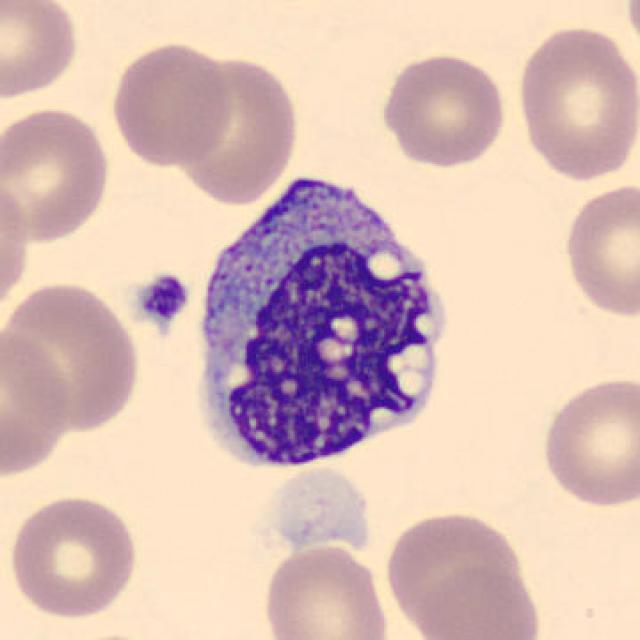Monocyte: (185, 157, 464, 483)
Platelets: (132, 270, 194, 330)
RBC: (2, 277, 144, 435), (167, 49, 304, 208), (512, 22, 638, 184), (382, 506, 526, 636), (4, 490, 142, 622), (106, 39, 236, 169), (377, 49, 510, 170), (0, 104, 114, 245), (537, 372, 638, 511), (258, 541, 394, 640), (0, 322, 76, 481), (558, 180, 638, 321), (260, 464, 378, 555), (412, 560, 545, 640), (0, 0, 83, 102), (0, 171, 34, 323)
